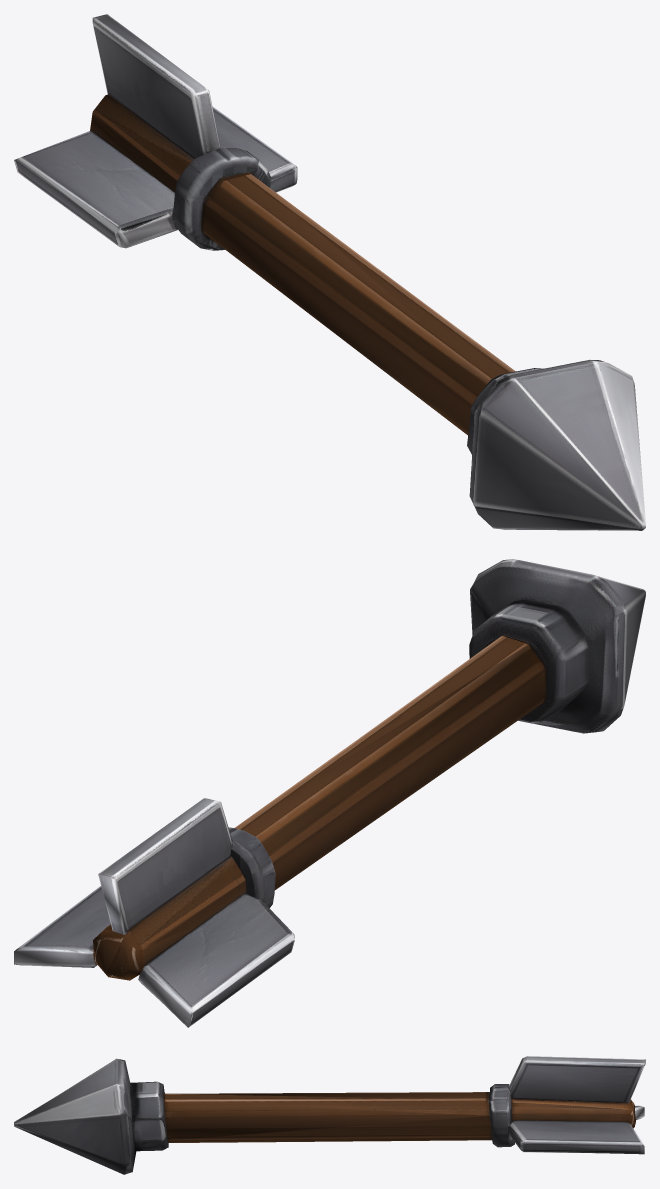
Rendered from Meshy_AI_Arrow_0716172953_texture.fbx.
The picture shows the model from 3 angles, top to bottom: view 1: azimuth 30°, elevation 25°; view 2: azimuth 150°, elevation 25°; view 3: azimuth 270°, elevation 25°; orthographic projection. The views are drawn at different scales.
Parts seen in each view (by area): view 1: mesh_node; view 2: mesh_node; view 3: mesh_node.
Part boxes in pixels (bbox=[...]): mesh_node: bbox=[14, 14, 645, 530]; mesh_node: bbox=[14, 559, 645, 1027]; mesh_node: bbox=[14, 1056, 645, 1174].
Bounding box in the file's own units: 38.75 × 36.4 × 200.
1 material, 1 textured.
